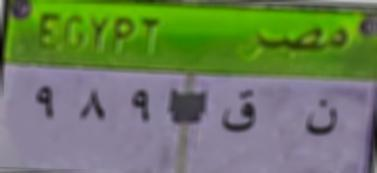8: (72, 82, 114, 132)
9: (123, 82, 159, 140), (29, 76, 59, 139)
noon: (295, 90, 342, 152)
qaaf: (212, 80, 261, 144)
